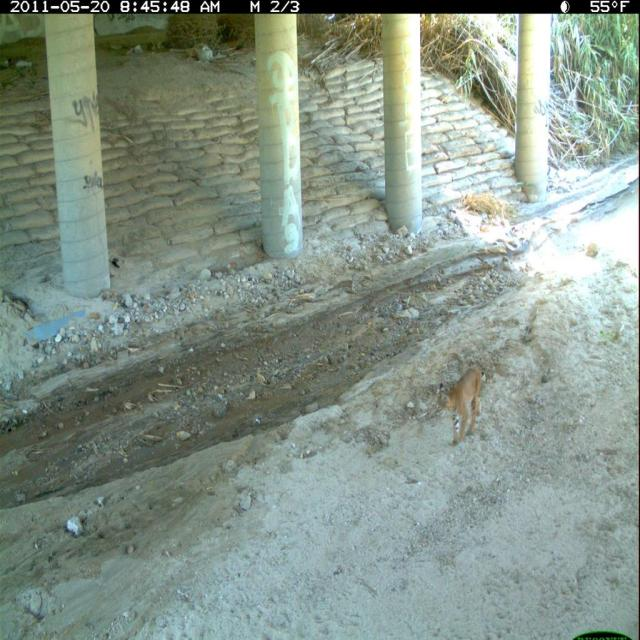bobcat: (435, 364, 486, 450)
